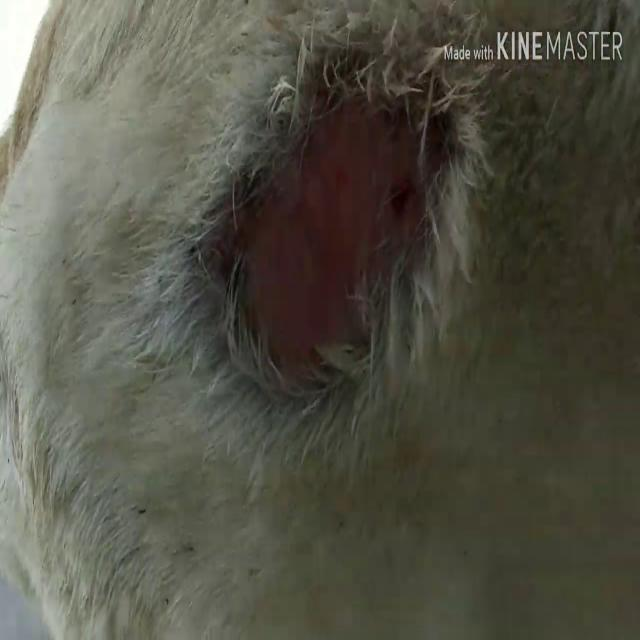hac lao: (170, 44, 490, 404)
